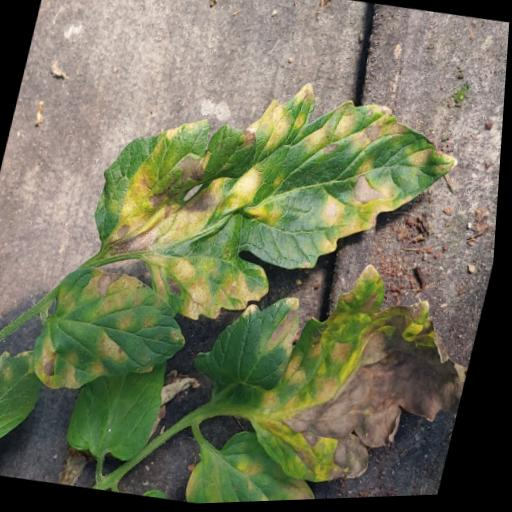Healthy: (66, 347, 176, 468)
Leaf Mold: (73, 50, 477, 365), (243, 250, 493, 504), (30, 257, 206, 413), (191, 284, 309, 402), (187, 422, 350, 506), (0, 334, 58, 465)
